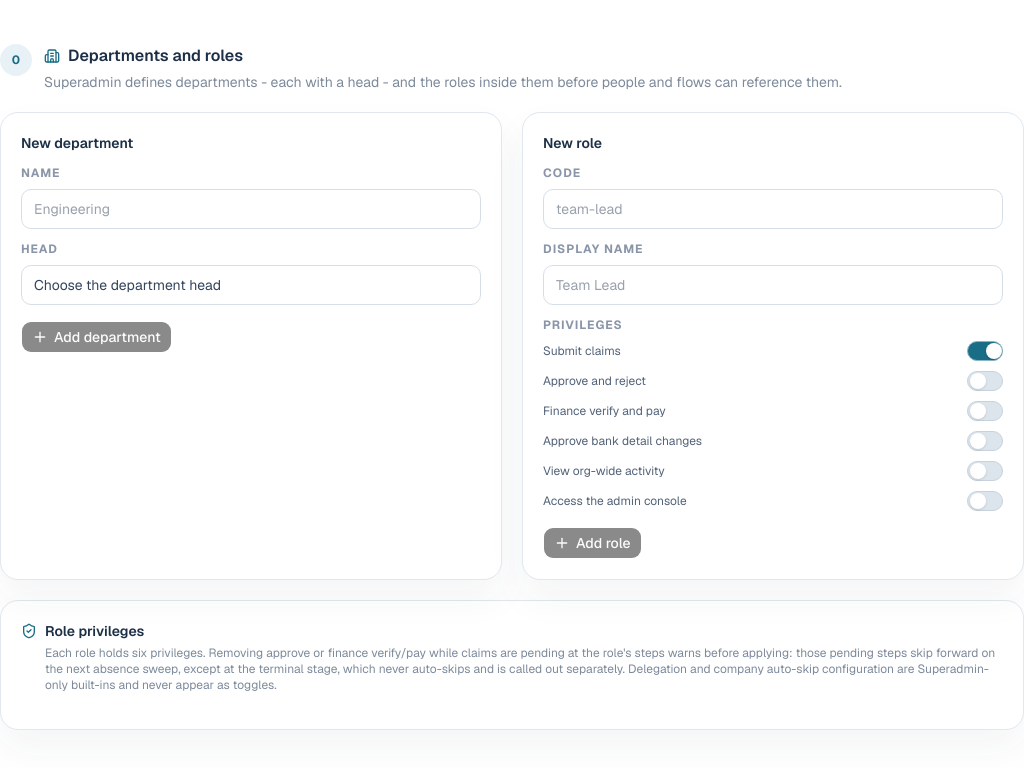
it: OrgSection department heads › keeps the Add department button disabled until a head is picked
In the field labelled "Name": (251, 209) [21,189,481,229], type "Research"
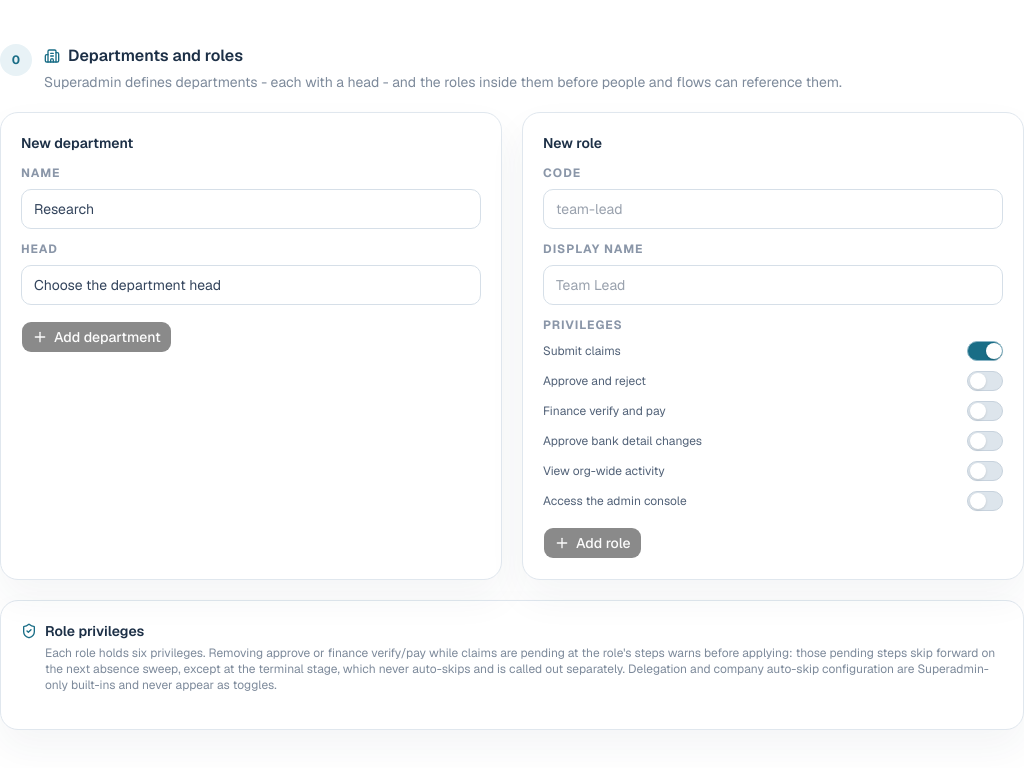
Expected: the button "Add department" is disabled, [21,321,172,353]
Select "Ada Lovelace" in the dropdown labelled "Head": (251, 285) [21,265,481,305]
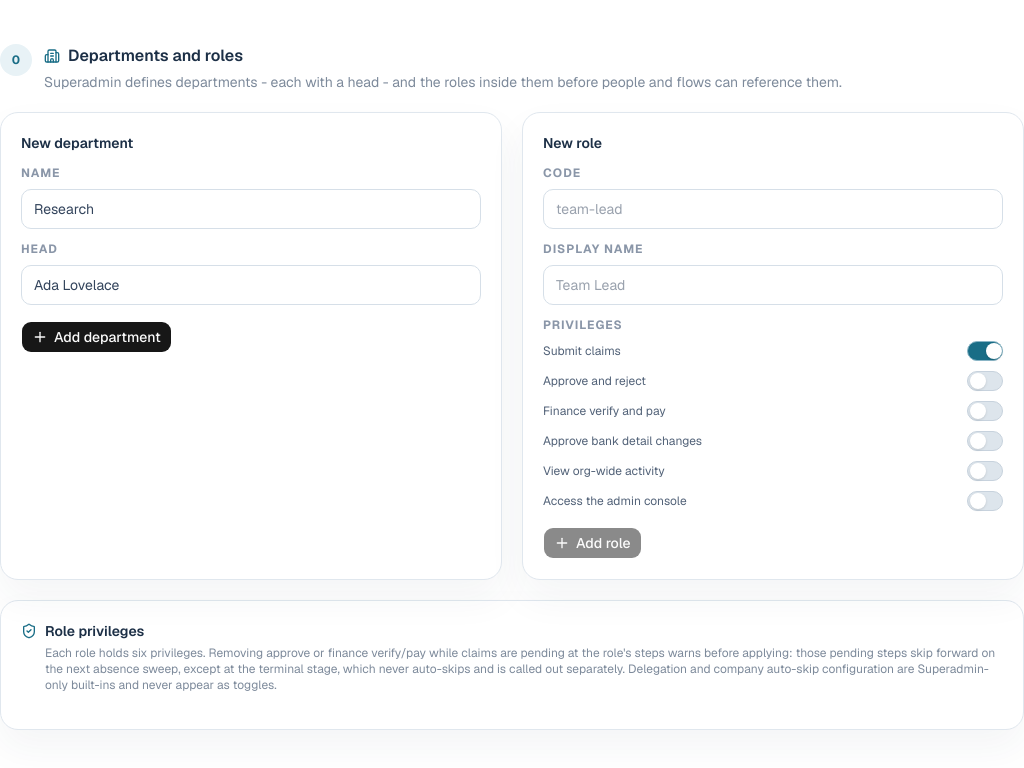
Now the button "Add department" is enabled, box [21,321,172,353]
